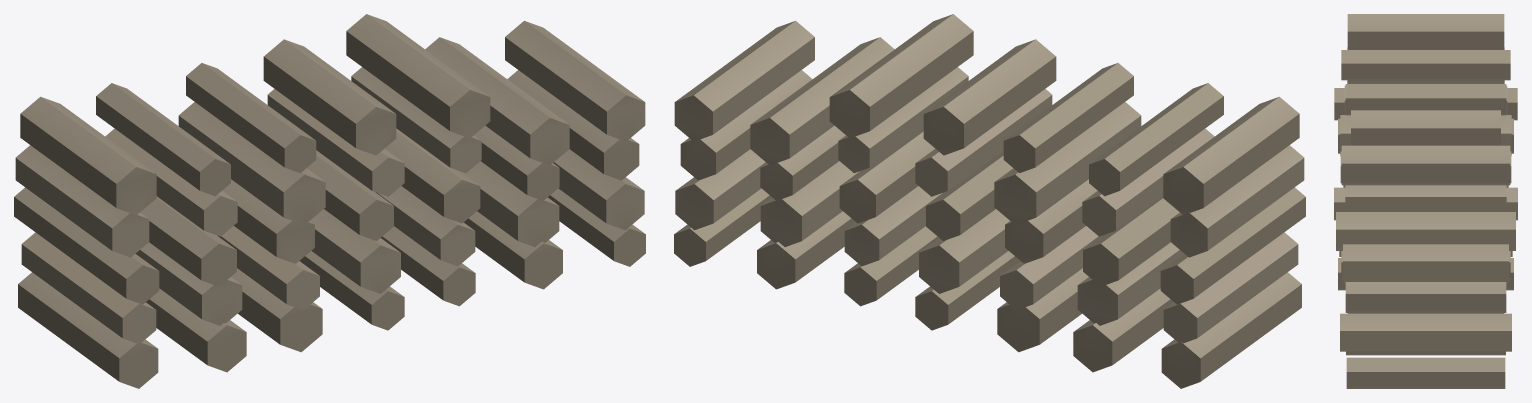
The model's file is prop_takigi.glb.
3 renders of one model, left to right at view 1: azimuth 30°, elevation 25°; view 2: azimuth 150°, elevation 25°; view 3: azimuth 270°, elevation 25°, orthographic. The views are drawn at different scales.
Parts seen in each view (by area): view 1: prop_takigi; view 2: prop_takigi; view 3: prop_takigi.
Part boxes in pixels (bbox=[...]): prop_takigi: bbox=[14, 14, 645, 388]; prop_takigi: bbox=[674, 14, 1305, 388]; prop_takigi: bbox=[1334, 14, 1517, 388].
Size of the model in its own units: 1.35 by 0.5481 by 0.4958.
